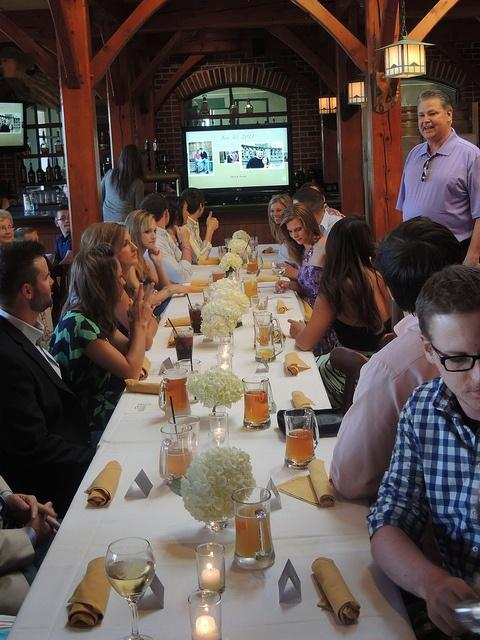AIO PC-Monitor-TV: (180, 121, 294, 197)
